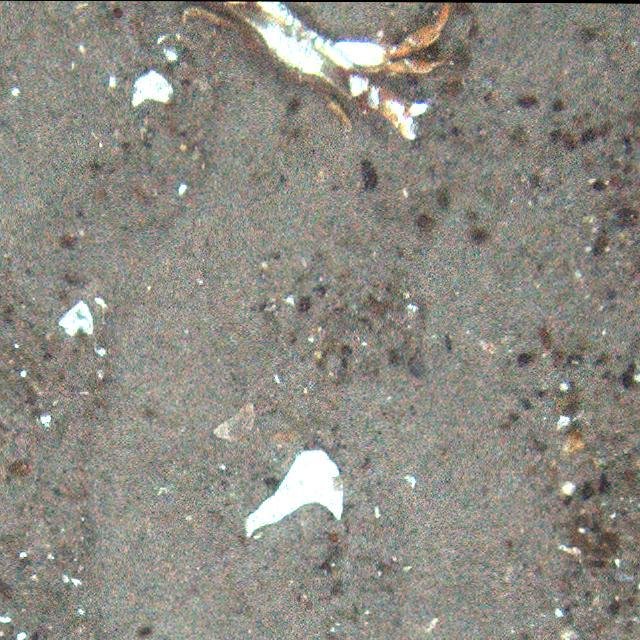crab: (175, 0, 453, 140)
